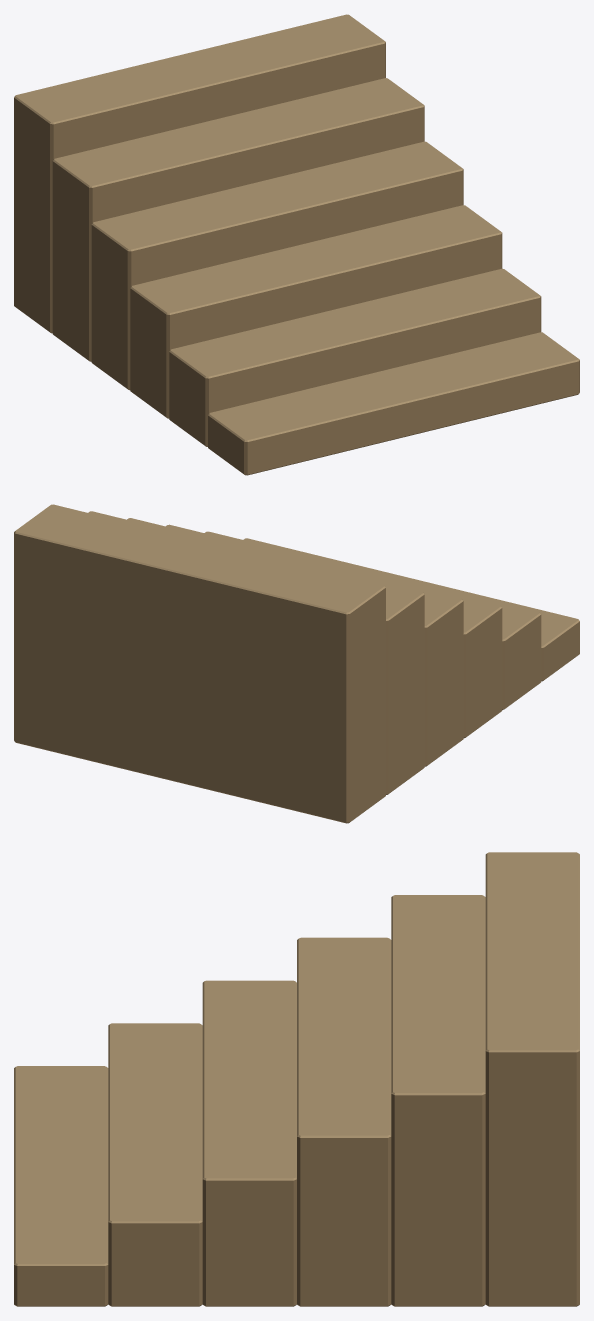
Rendered from stair-full.glb.
3 renders of one model, top to bottom at view 1: azimuth 30°, elevation 25°; view 2: azimuth 150°, elevation 25°; view 3: azimuth 270°, elevation 25°, orthographic. The views are drawn at different scales.
Parts seen in each view (by area): view 1: stair-full__body; view 2: stair-full__body; view 3: stair-full__body.
Part boxes in pixels (x1,y1,x2,y2): stair-full__body: (14,14,579,475); stair-full__body: (14,504,579,823); stair-full__body: (14,852,579,1306).
Bounding box in the file's own units: 2 × 1.2 × 2.4.
